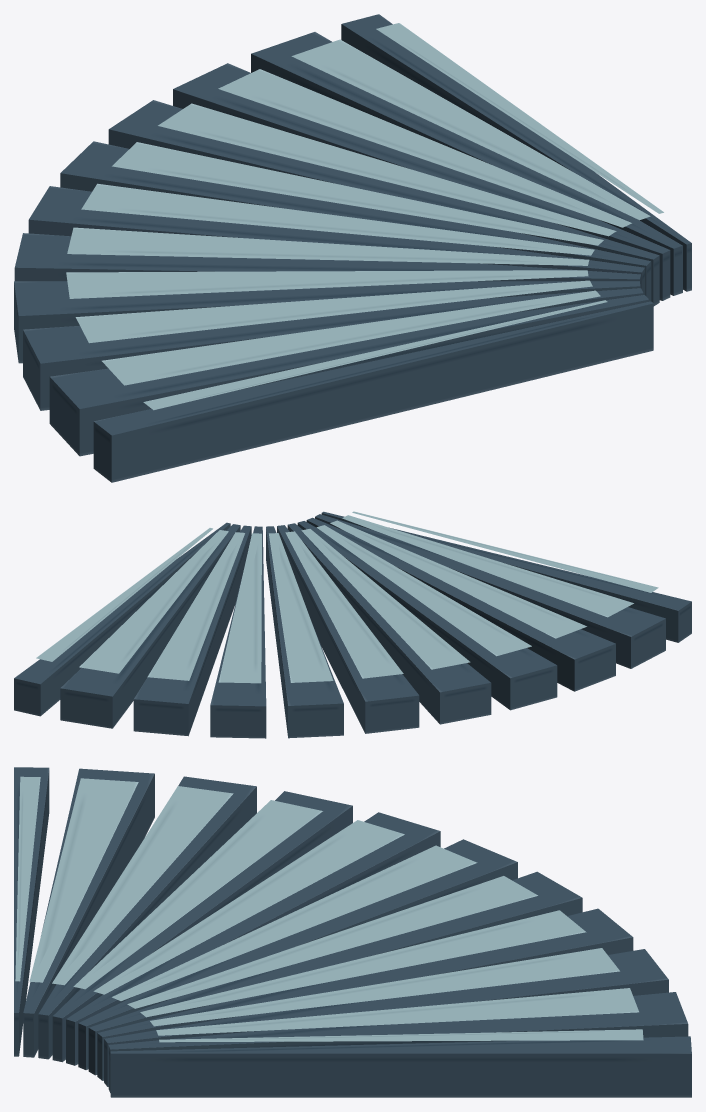
The model's file is sc_tread_curve_right_16.obj.
The picture shows the model from 3 angles, top to bottom: view 1: azimuth 30°, elevation 25°; view 2: azimuth 150°, elevation 25°; view 3: azimuth 270°, elevation 25°; orthographic projection. The views are drawn at different scales.
Size of the model in its own units: 17.5 by 1.56 by 17.5.
Materials: 1 (1 with a texture image).
